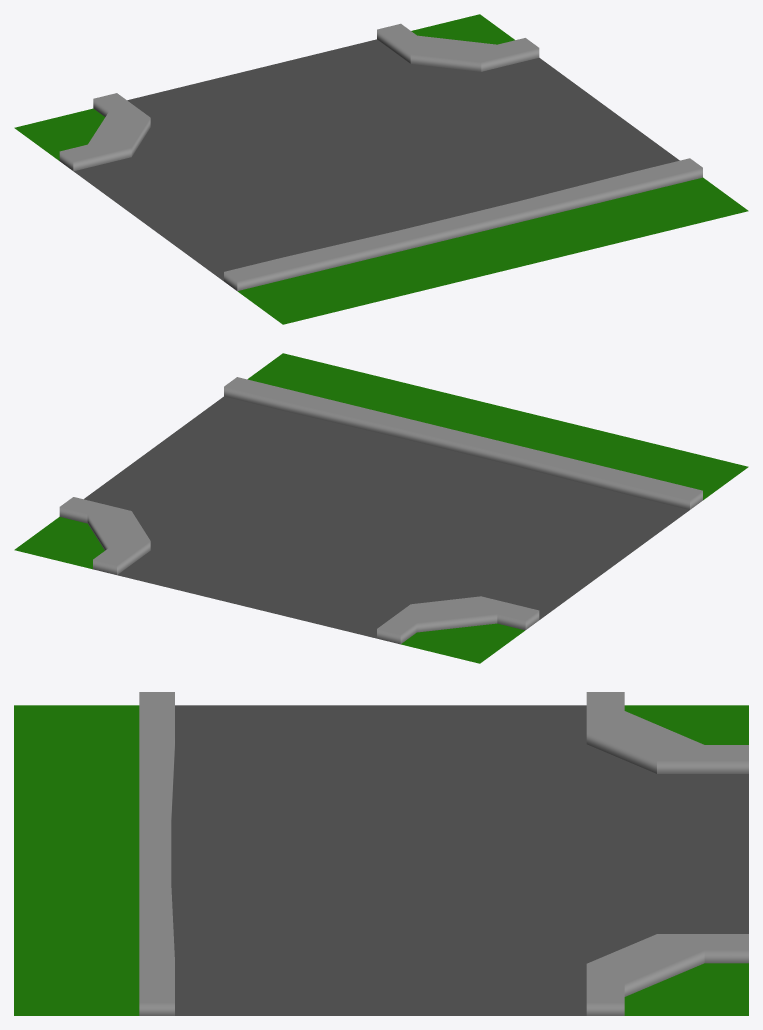
File: ground_pathSplit.fbx
The picture shows the model from 3 angles, top to bottom: view 1: azimuth 30°, elevation 25°; view 2: azimuth 150°, elevation 25°; view 3: azimuth 270°, elevation 25°; orthographic projection. The views are drawn at different scales.
Parts seen in each view (by area): view 1: ground_pathSplit; view 2: ground_pathSplit; view 3: ground_pathSplit.
Boxes of the visible parts, box(x1,y1,x2,y2) form: ground_pathSplit: box(14, 14, 748, 324); ground_pathSplit: box(14, 353, 748, 663); ground_pathSplit: box(14, 692, 748, 1015).
Size of the model in its own units: 100 by 2 by 100.
